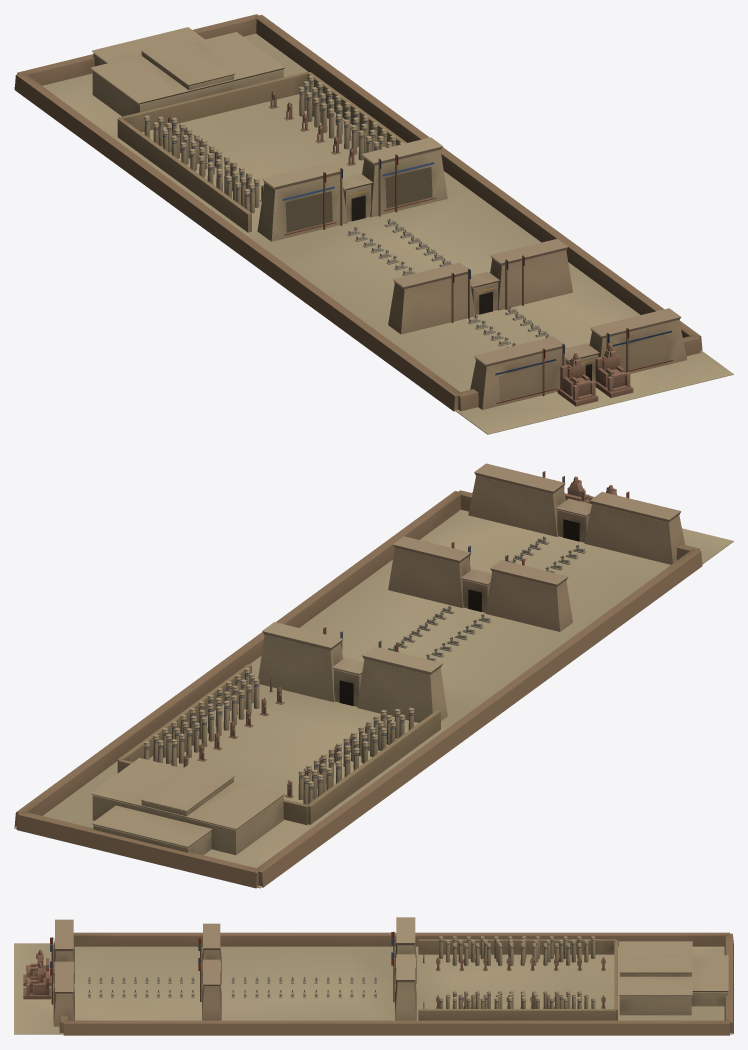
Rendered from colossi-of-memnon.glb.
3 views of the same model, one above another, from view 1: azimuth 30°, elevation 25°; view 2: azimuth 150°, elevation 25°; view 3: azimuth 270°, elevation 25° (orthographic). The views are drawn at different scales.
Parts seen in each view (by area): view 1: p0_walls, p1_temple, p2_court, p3_colossi; view 2: p0_walls, p1_temple, p2_court, p3_colossi; view 3: p0_walls, p1_temple, p2_court, p3_colossi.
Boxes of the visible parts, bbox=[...] form: p0_walls: bbox=[14, 14, 733, 434]; p1_temple: bbox=[90, 27, 686, 409]; p2_court: bbox=[144, 75, 404, 213]; p3_colossi: bbox=[168, 90, 633, 406]; p0_walls: bbox=[14, 490, 733, 888]; p1_temple: bbox=[91, 463, 685, 855]; p2_court: bbox=[144, 667, 414, 804]; p3_colossi: bbox=[183, 476, 617, 798]; p0_walls: bbox=[14, 932, 733, 1035]; p1_temple: bbox=[50, 917, 728, 1026]; p2_court: bbox=[439, 936, 595, 1008]; p3_colossi: bbox=[23, 949, 605, 1008].
Bounding box in the file's own units: 121 × 27.15 × 401.
